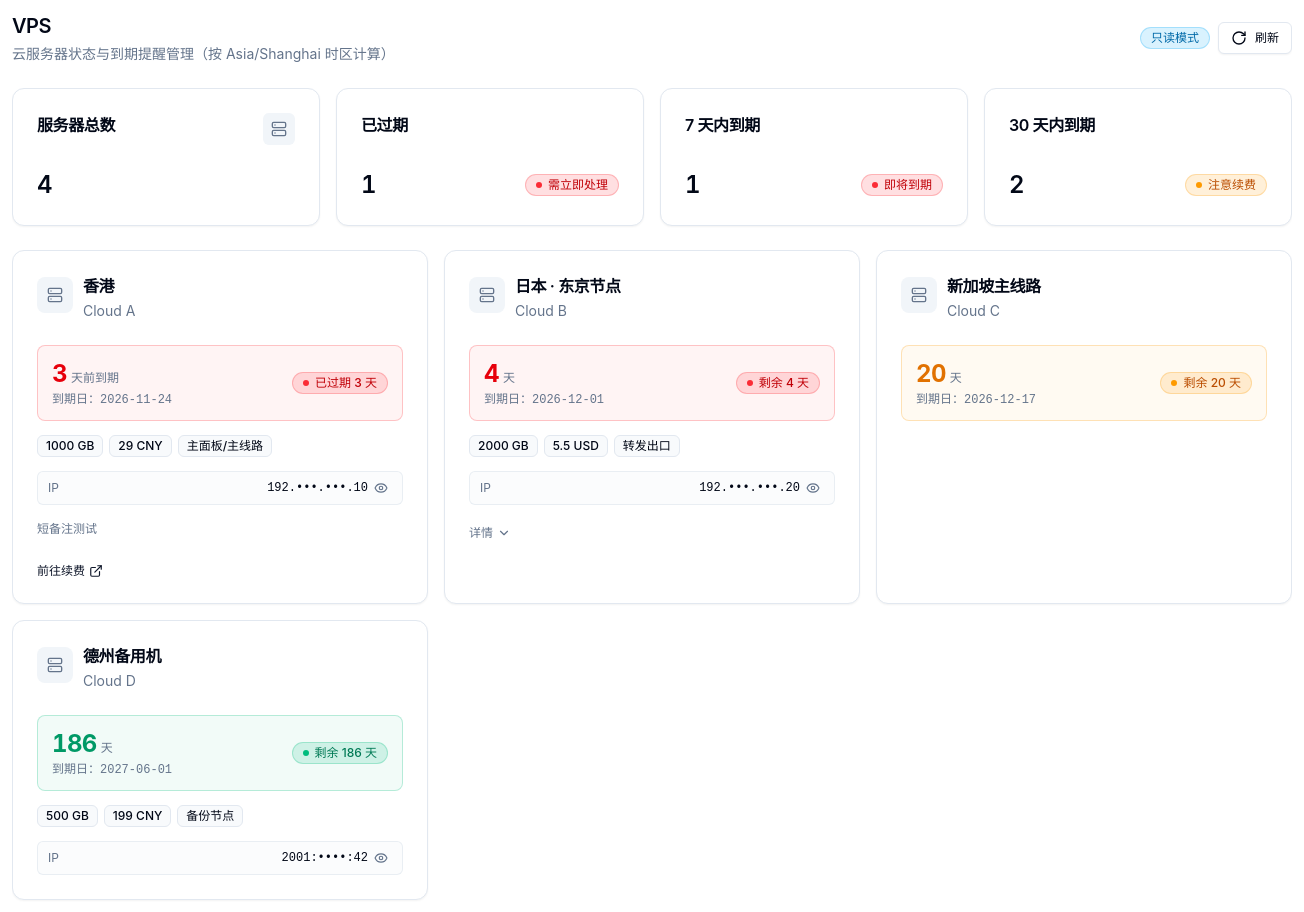
it: VpsPage VPS 卡片页 › 只读模式下隐藏新增、编辑与删除按钮，但仍可查看打码 IP
Check: the heading "香港" is shown, box [83,275,114,297]
Check: the text "只读模式" is shown, box [1151,30,1199,46]
Step 1. Click the button named "显示 IP" → (328, 488), box [263,478,392,498]
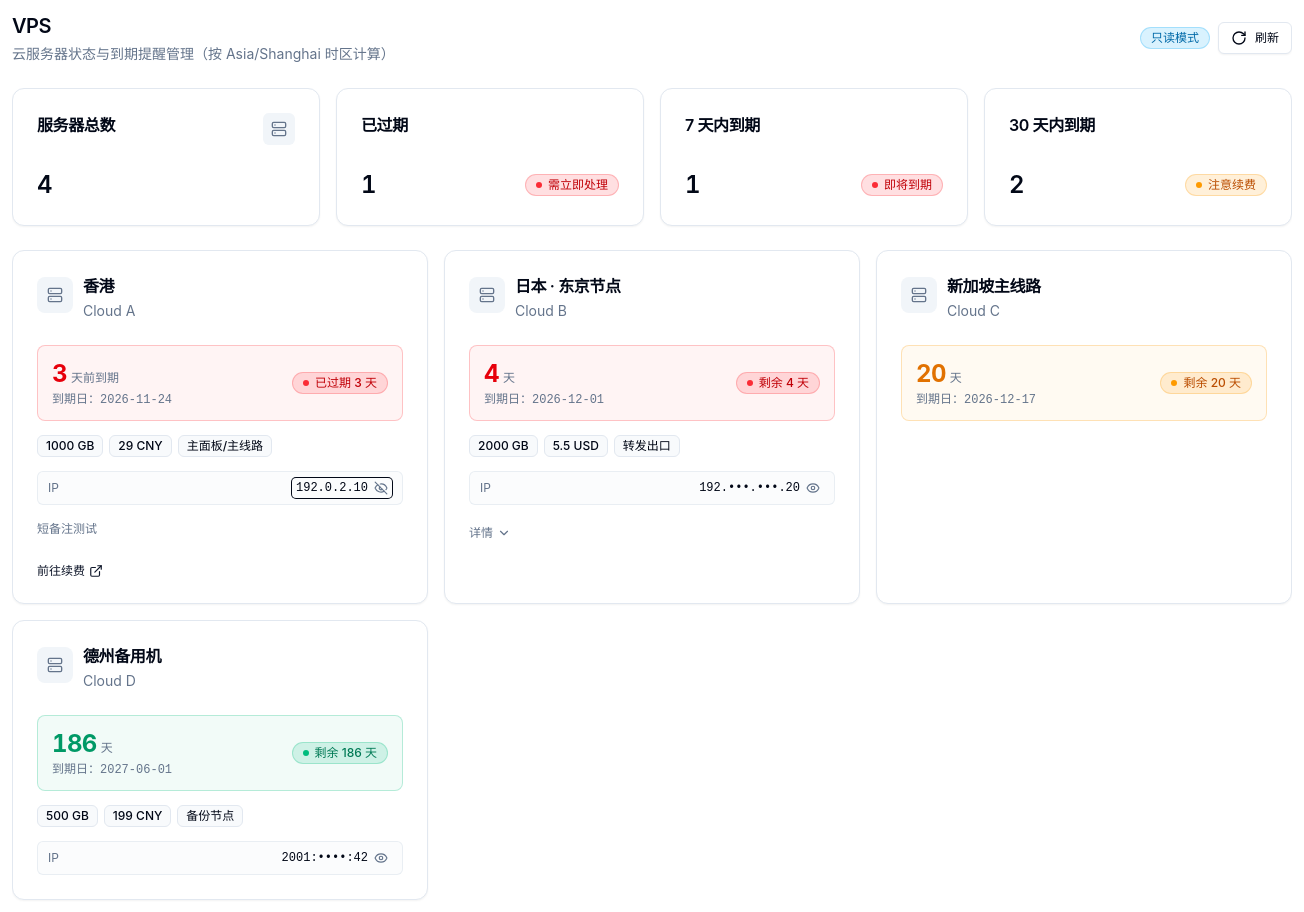
Check: the text "192.0.2.10" is shown, box [296,480,368,496]
